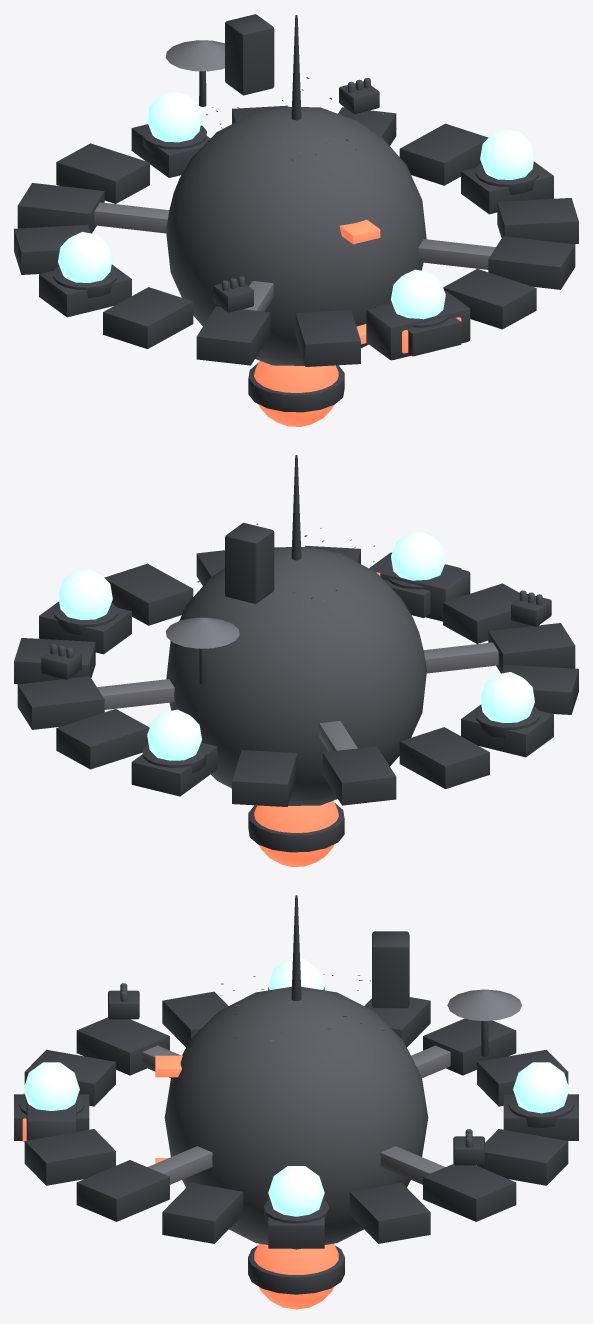
The model's file is base_bastion.glb.
The picture shows the model from 3 angles, top to bottom: view 1: azimuth 30°, elevation 25°; view 2: azimuth 150°, elevation 25°; view 3: azimuth 270°, elevation 25°; orthographic projection.
Parts seen in each view (by area): view 1: BastionHull, SUB_reactor, SUB_command, SUB_shield_2, SUB_shield_0, SUB_shield_1, SUB_hangar, SUB_shield_3, SUB_radar, SUB_launcher_1, SUB_launcher_0; view 2: BastionHull, SUB_reactor, SUB_command, SUB_shield_0, SUB_shield_2, SUB_shield_1, SUB_shield_3, SUB_radar, SUB_hangar, SUB_launcher_1, SUB_launcher_0; view 3: BastionHull, SUB_reactor, SUB_shield_1, SUB_shield_0, SUB_command, SUB_shield_3, SUB_radar, SUB_hangar, SUB_shield_2, SUB_launcher_0, SUB_launcher_1.
Part boxes in pixels (left/top/right/bottom): BastionHull: left=14, top=15, right=578, bottom=366; SUB_reactor: left=248, top=361, right=344, bottom=426; SUB_command: left=225, top=14, right=274, bottom=95; SUB_shield_2: left=53, top=232, right=117, bottom=297; SUB_shield_0: left=475, top=129, right=539, bottom=194; SUB_shield_1: left=142, top=91, right=206, bottom=154; SUB_hangar: left=366, top=291, right=470, bottom=360; SUB_shield_3: left=391, top=269, right=448, bottom=327; SUB_radar: left=165, top=40, right=224, bottom=106; SUB_launcher_1: left=213, top=276, right=253, bottom=312; SUB_launcher_0: left=339, top=78, right=379, bottom=113; BastionHull: left=14, top=455, right=578, bottom=806; SUB_reactor: left=248, top=801, right=344, bottom=866; SUB_command: left=225, top=522, right=274, bottom=604; SUB_shield_0: left=53, top=569, right=117, bottom=634; SUB_shield_2: left=475, top=672, right=539, bottom=737; SUB_shield_1: left=142, top=709, right=206, bottom=773; SUB_shield_3: left=388, top=531, right=445, bottom=589; SUB_radar: left=165, top=617, right=239, bottom=684; SUB_hangar: left=369, top=552, right=470, bottom=621; SUB_launcher_1: left=511, top=590, right=551, bottom=626; SUB_launcher_0: left=41, top=643, right=81, bottom=679; BastionHull: left=14, top=895, right=578, bottom=1249; SUB_reactor: left=248, top=1243, right=344, bottom=1309; SUB_shield_1: left=508, top=1062, right=573, bottom=1127; SUB_shield_0: left=263, top=1166, right=329, bottom=1223; SUB_command: left=372, top=931, right=409, bottom=1008; SUB_shield_3: left=19, top=1062, right=84, bottom=1114; SUB_radar: left=447, top=989, right=522, bottom=1056; SUB_hangar: left=22, top=1093, right=76, bottom=1142; SUB_shield_2: left=268, top=959, right=324, bottom=989; SUB_launcher_0: left=453, top=1129, right=484, bottom=1165; SUB_launcher_1: left=108, top=983, right=139, bottom=1019.
Bounding box in the file's own units: 180 × 144 × 180.
